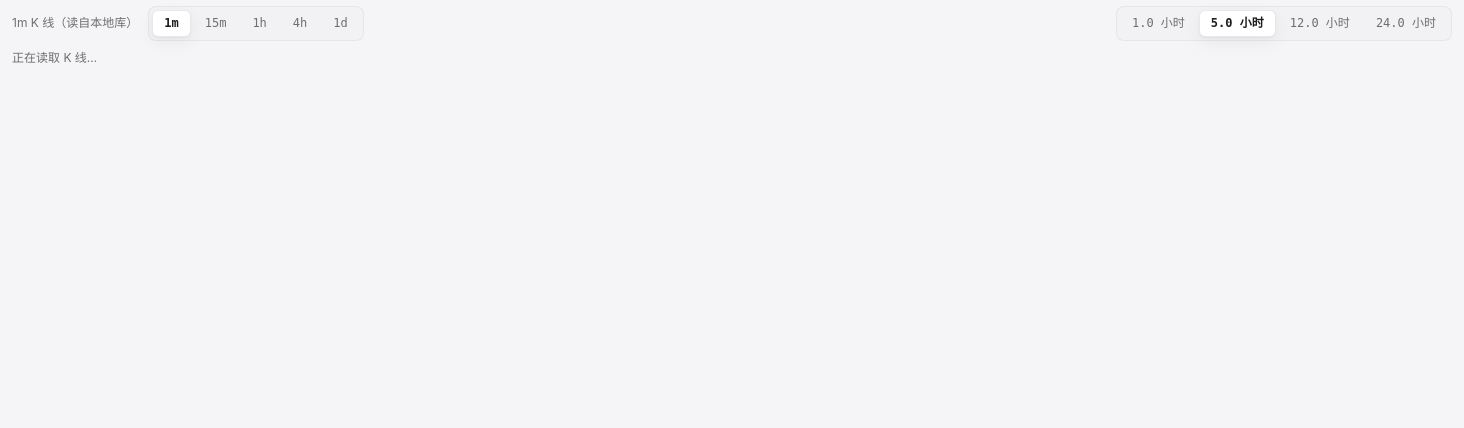
Test case: PriceChart 周期切换 › 缺口按所选周期报「根」而不是「分钟」（R-7.3）
Click the button titled "切换到 4h" at (300, 23), box [281,10,319,37]
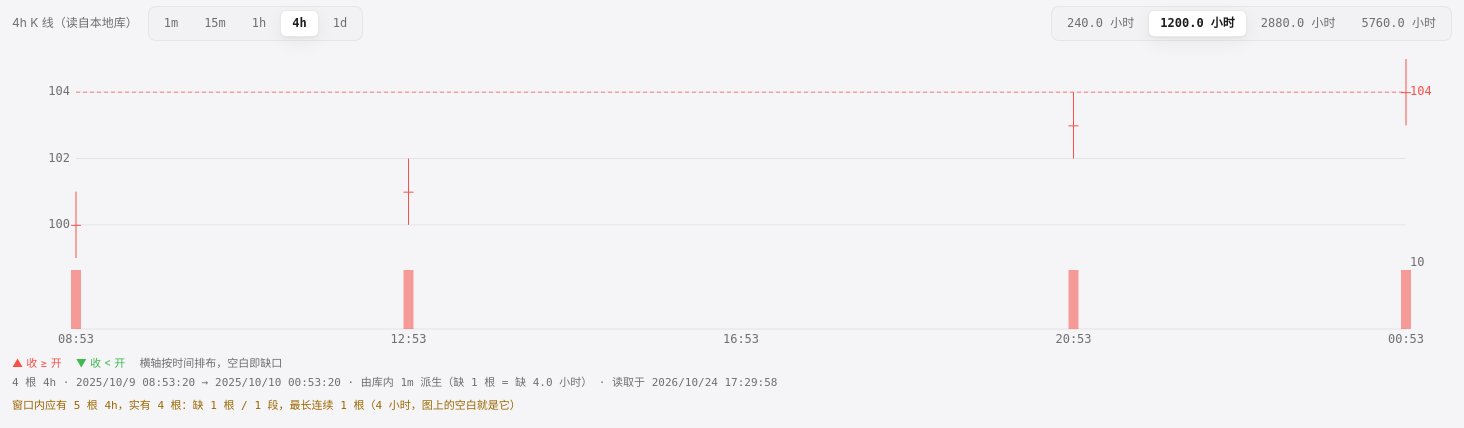
Expected: the text "缺 1 根" is shown, [341,376,592,389]
Expected: the text "4 小时" is shown, [376,399,411,412]
